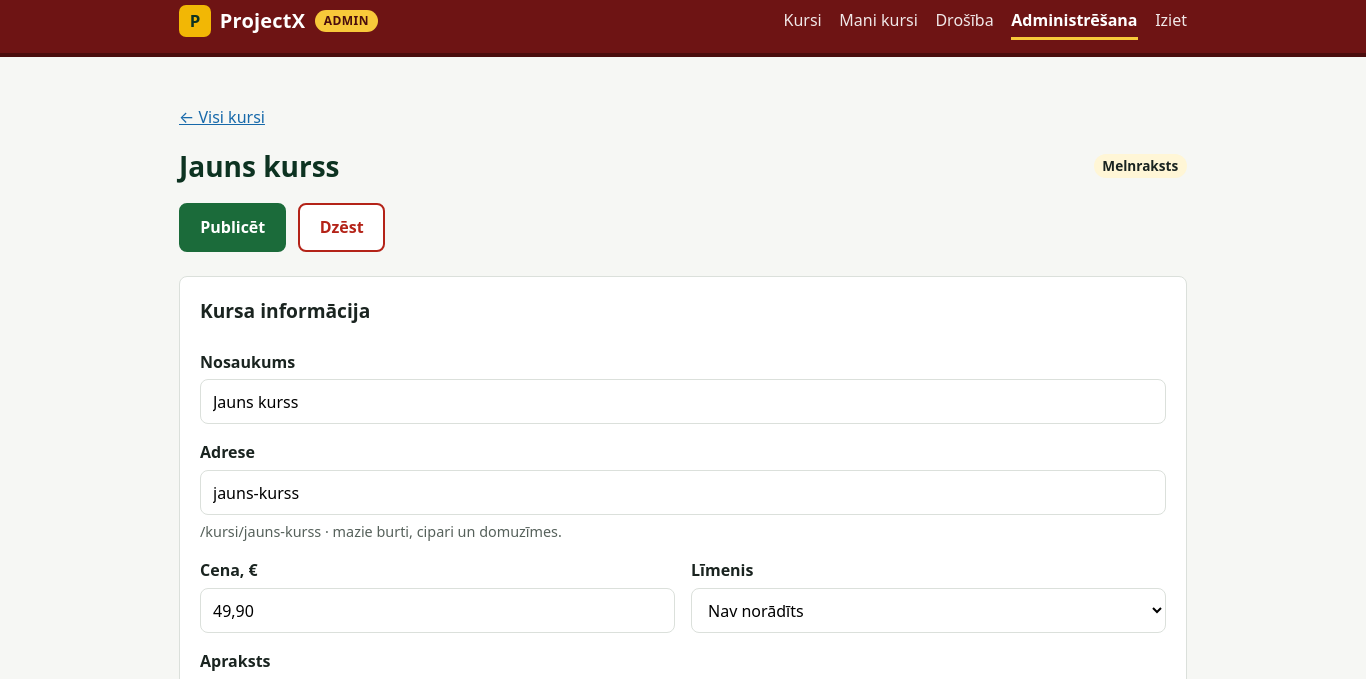
Test: admin courses › saves details with the loaded version and shows the saved course
Replace the text in the field labelled "Nosaukums" with "Labots kurss" at (683, 402), box [200, 379, 1166, 424]
(page scrolled)
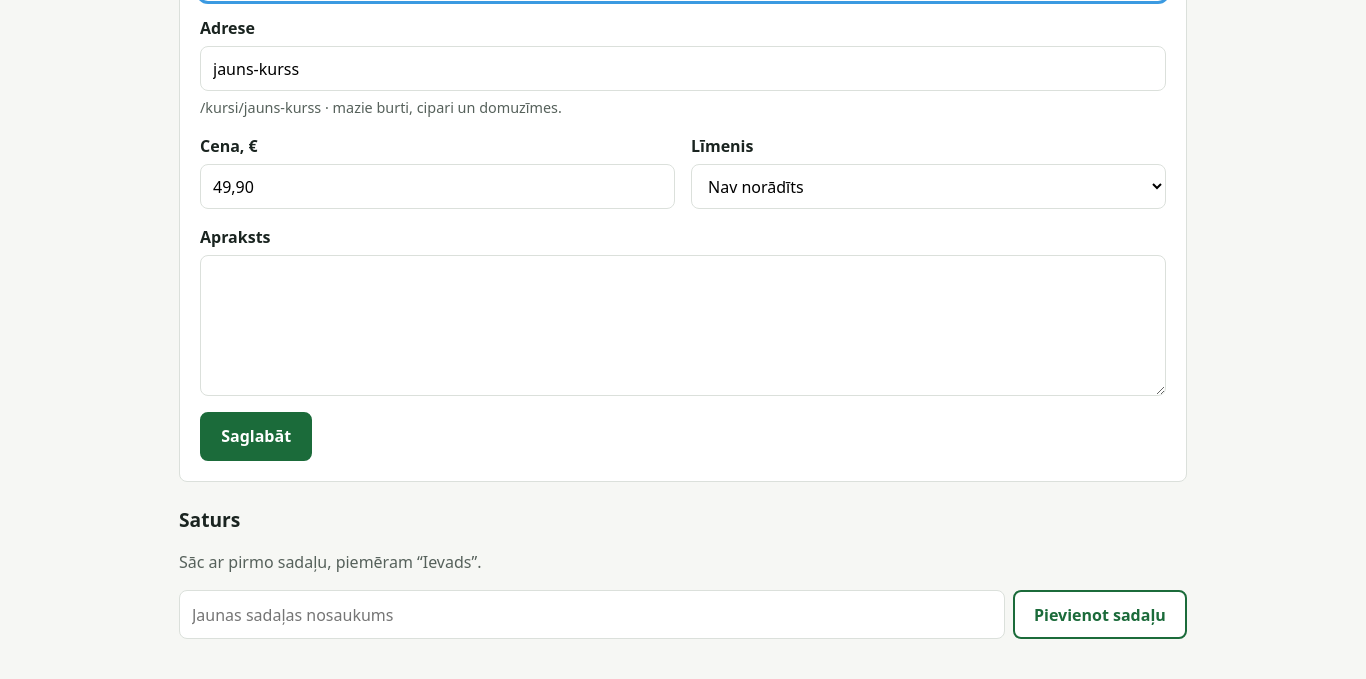
Click the button "Saglabāt".
click(256, 436)  # box [200, 412, 312, 461]
(page scrolled)
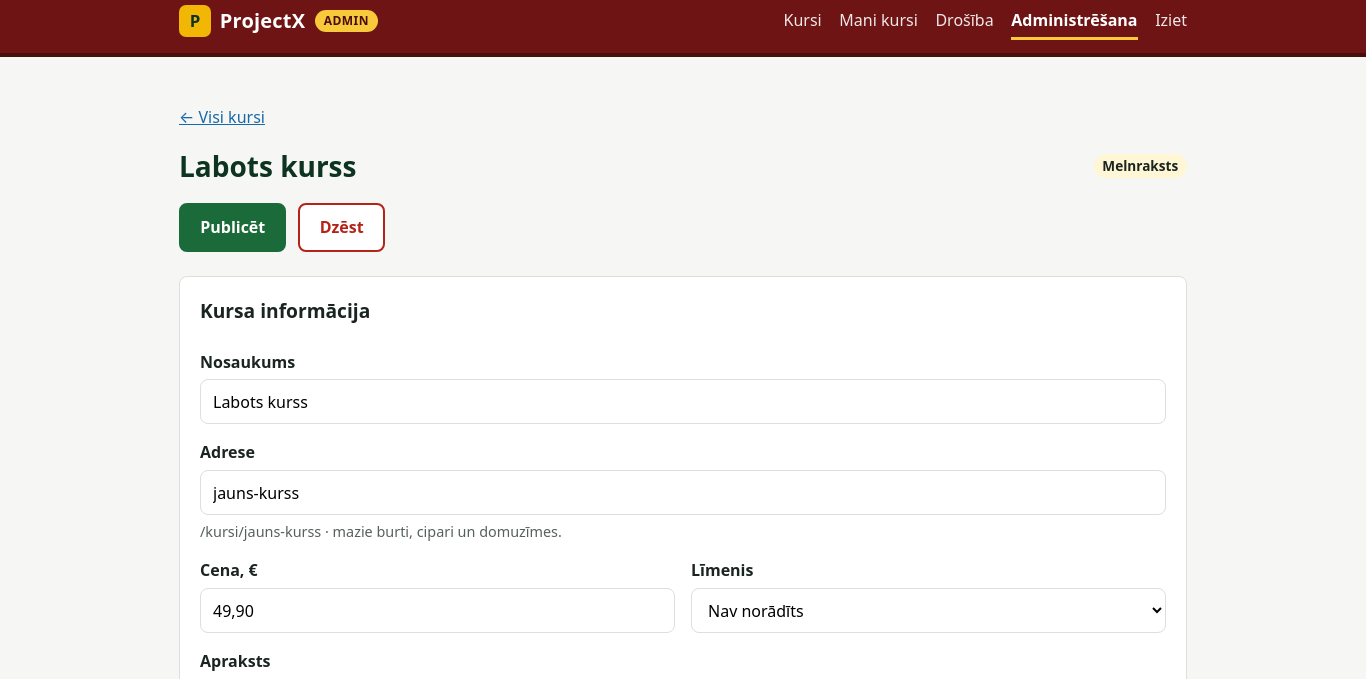
Now the heading "Labots kurss" is shown, box [179, 145, 356, 187]
